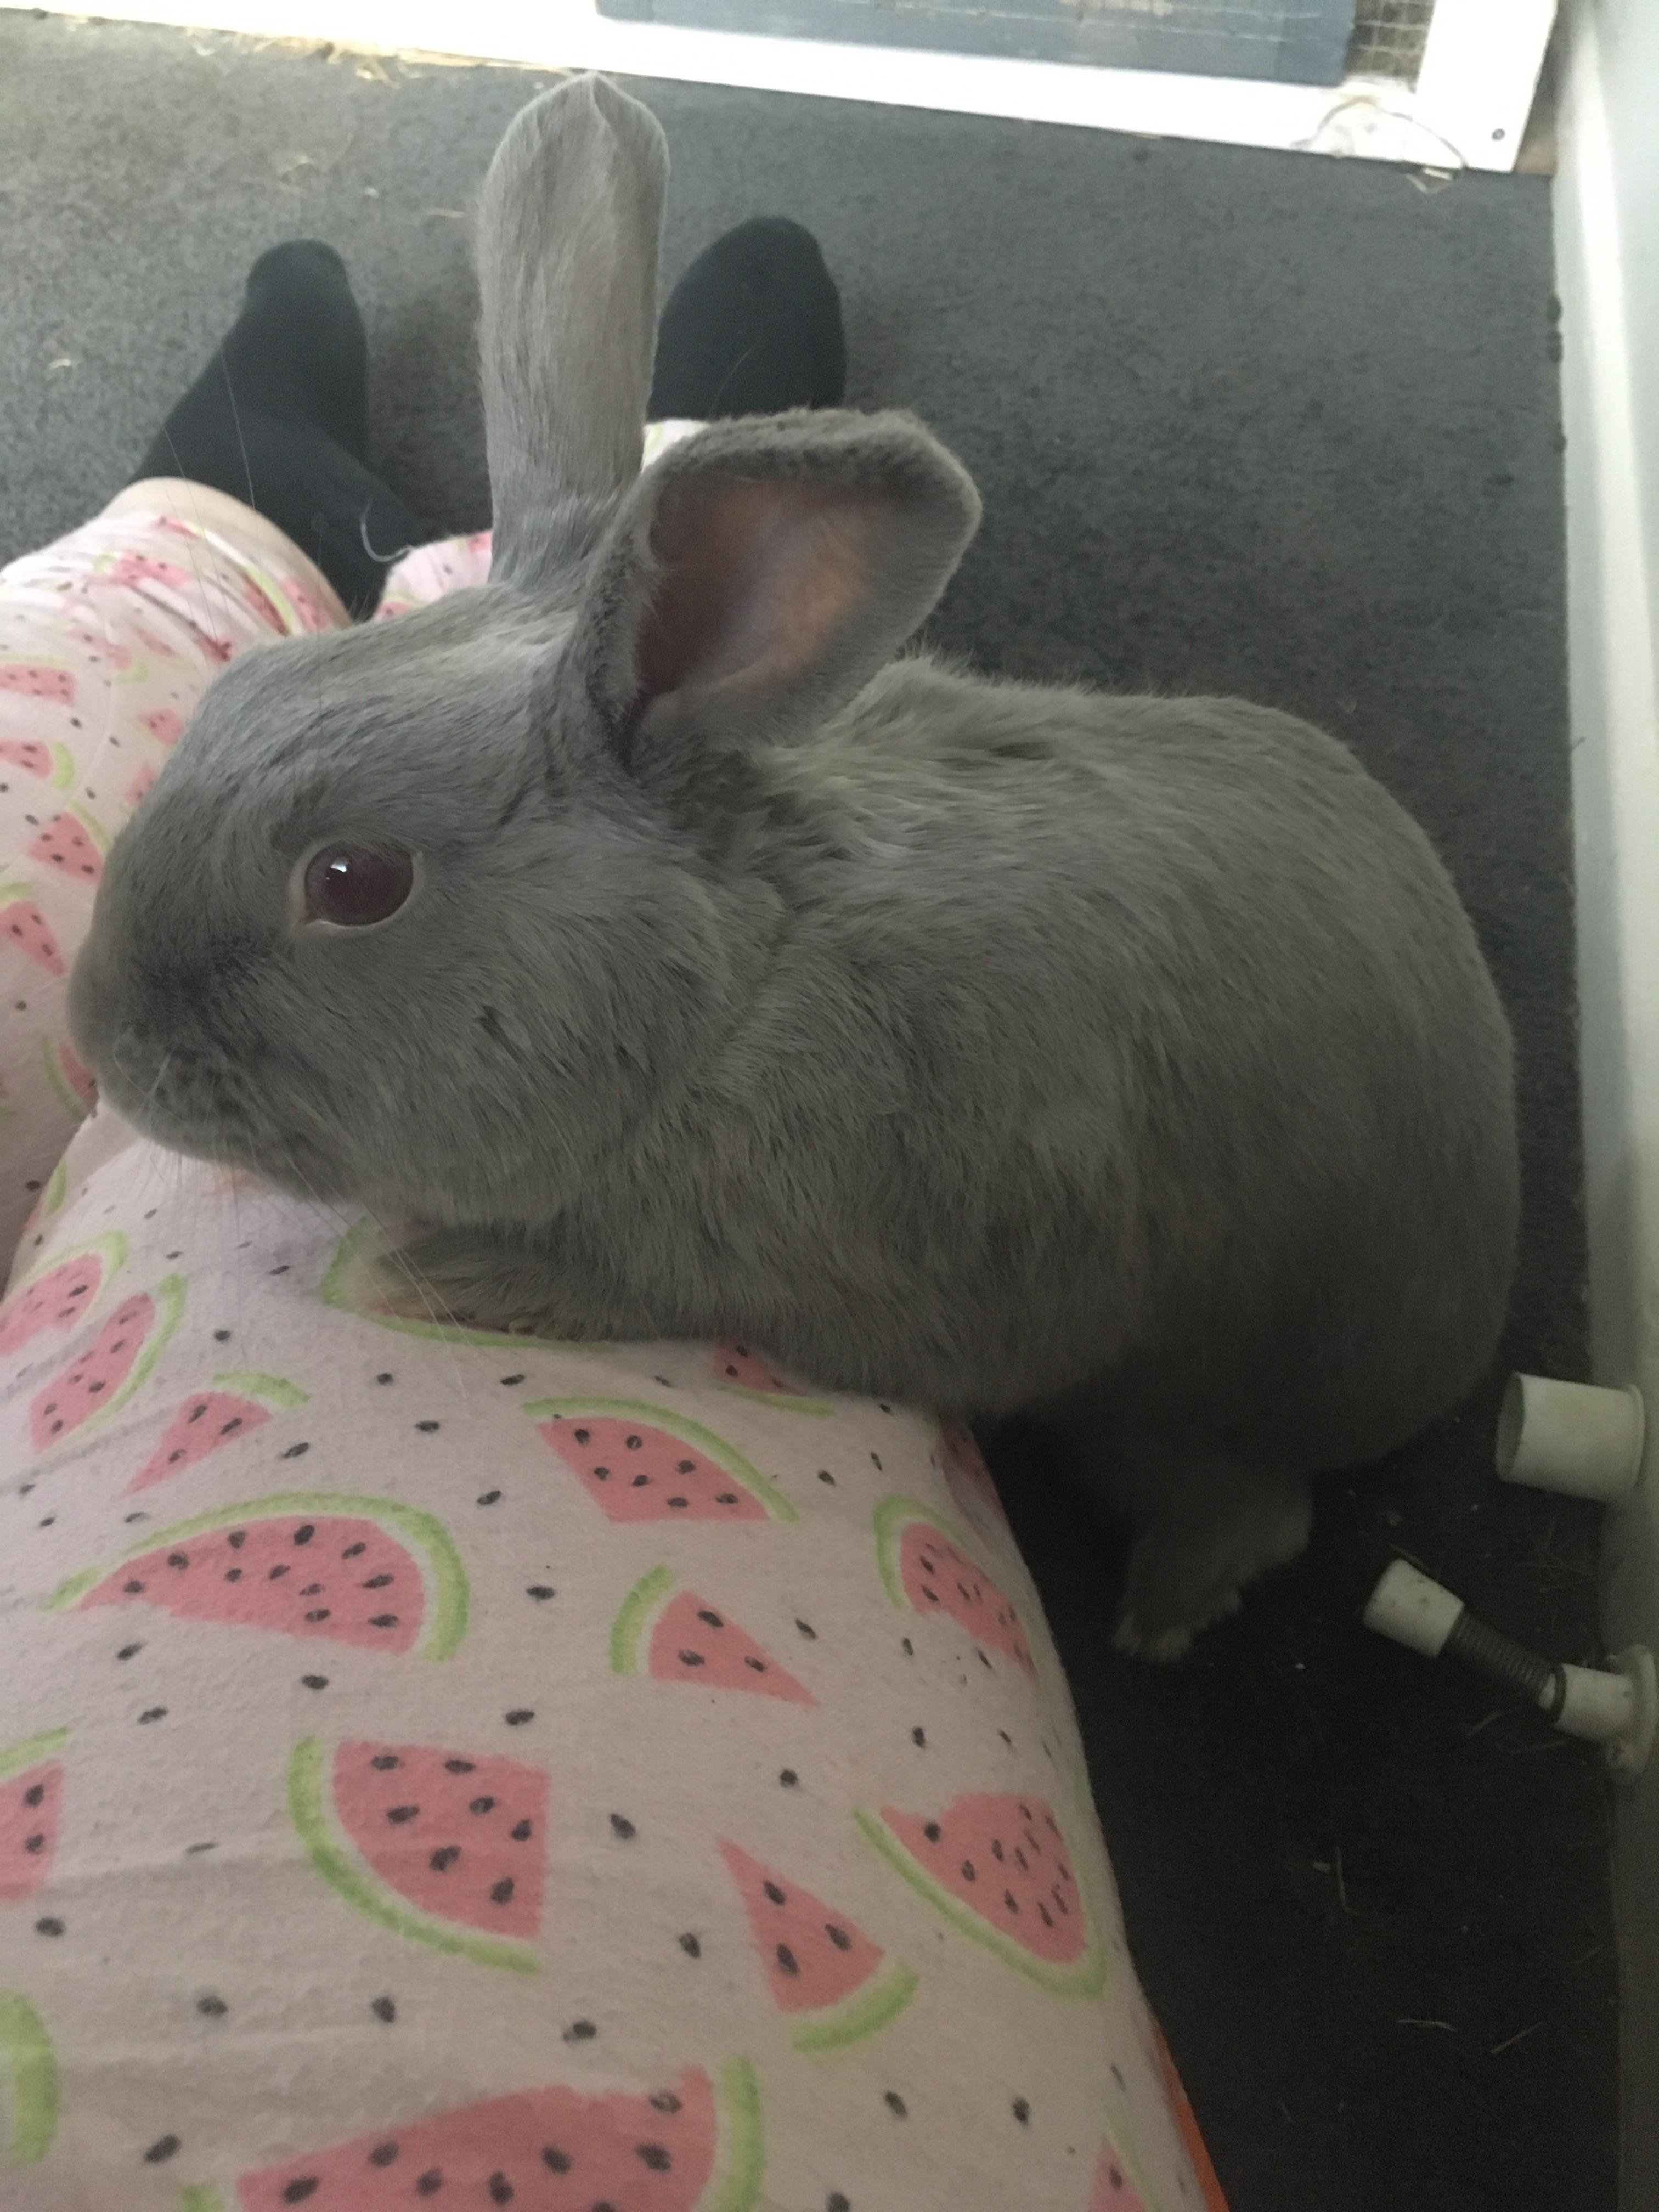bunny: (58, 52, 1554, 1681)
